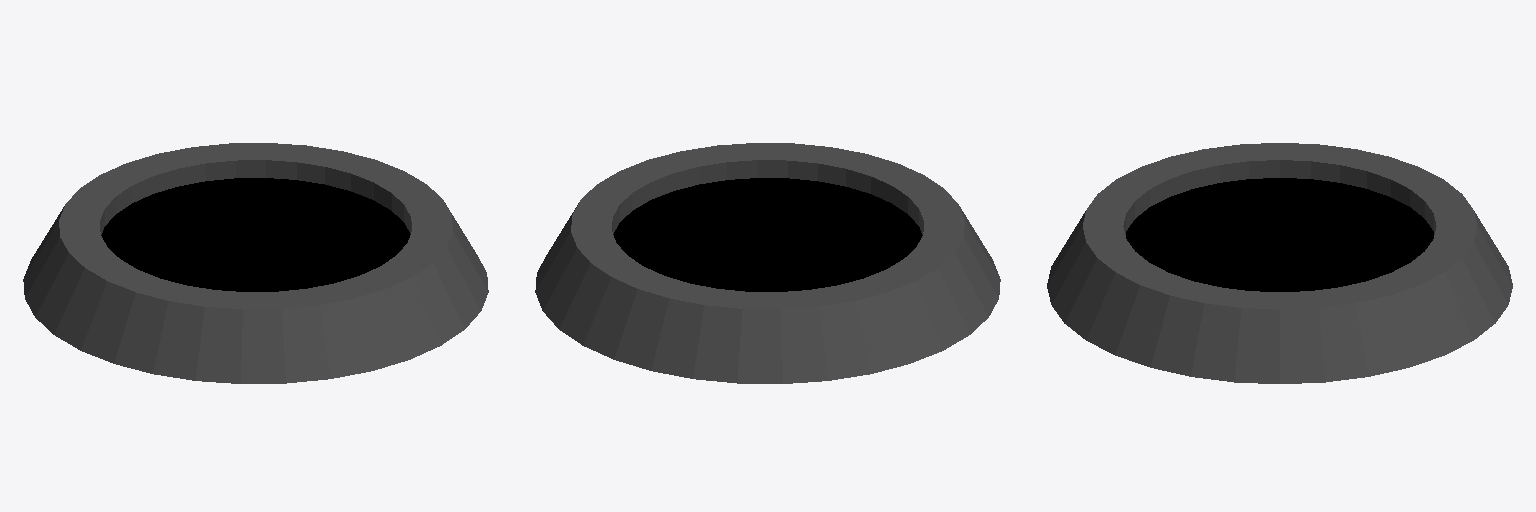
The model's file is Silo.obj.
3 views of the same model, side by side, from view 1: azimuth 30°, elevation 25°; view 2: azimuth 150°, elevation 25°; view 3: azimuth 270°, elevation 25° (orthographic).
Visible parts, largest first — view 1: Cube; view 2: Cube; view 3: Cube.
Part boxes in pixels (left/top/right/bottom): Cube: left=23, top=143, right=488, bottom=383; Cube: left=535, top=143, right=1000, bottom=383; Cube: left=1047, top=143, right=1512, bottom=383.
Bounding box in the file's own units: 2 × 0.2824 × 2.